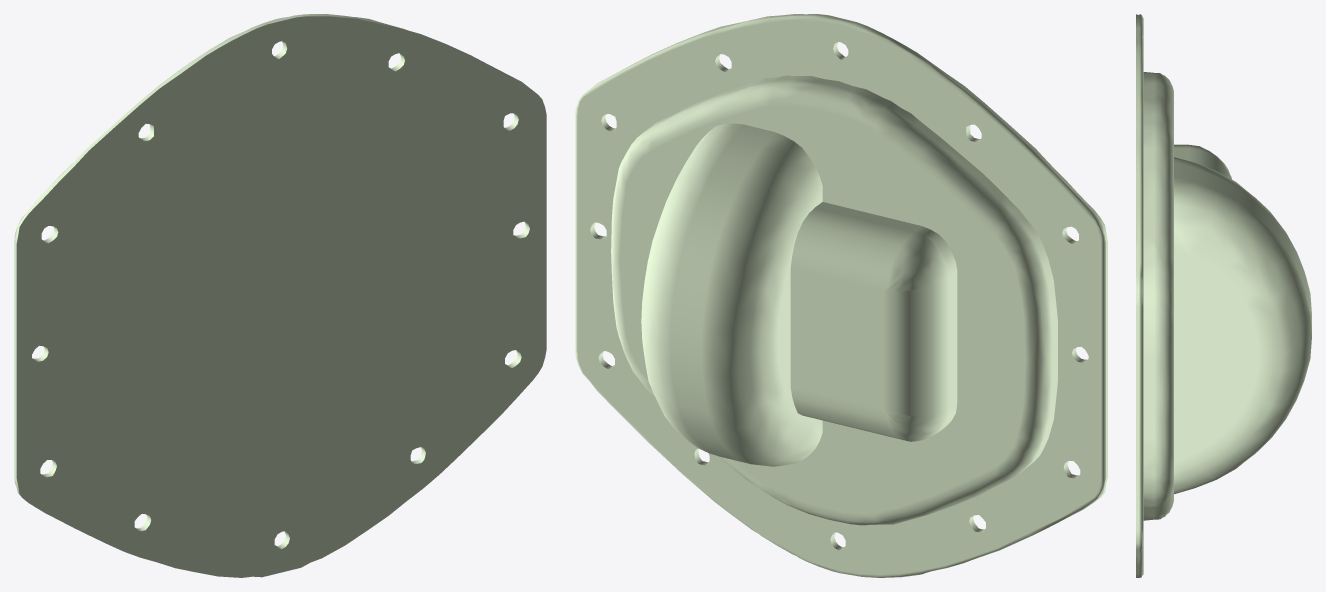
Rendered from Differential cover plate isolated.gltf.
The picture shows the model from 3 angles, left to right: view 1: azimuth 30°, elevation 25°; view 2: azimuth 150°, elevation 25°; view 3: azimuth 270°, elevation 25°; orthographic projection. The views are drawn at different scales.
Parts seen in each view (by area): view 1: Cover; view 2: Cover; view 3: Cover.
Boxes of the visible parts, x1,y1,x2,y2 form: Cover: [14, 14, 546, 577]; Cover: [575, 14, 1107, 577]; Cover: [1136, 14, 1311, 577].
Bounding box in the file's own units: 38.2 × 38 × 11.6.
